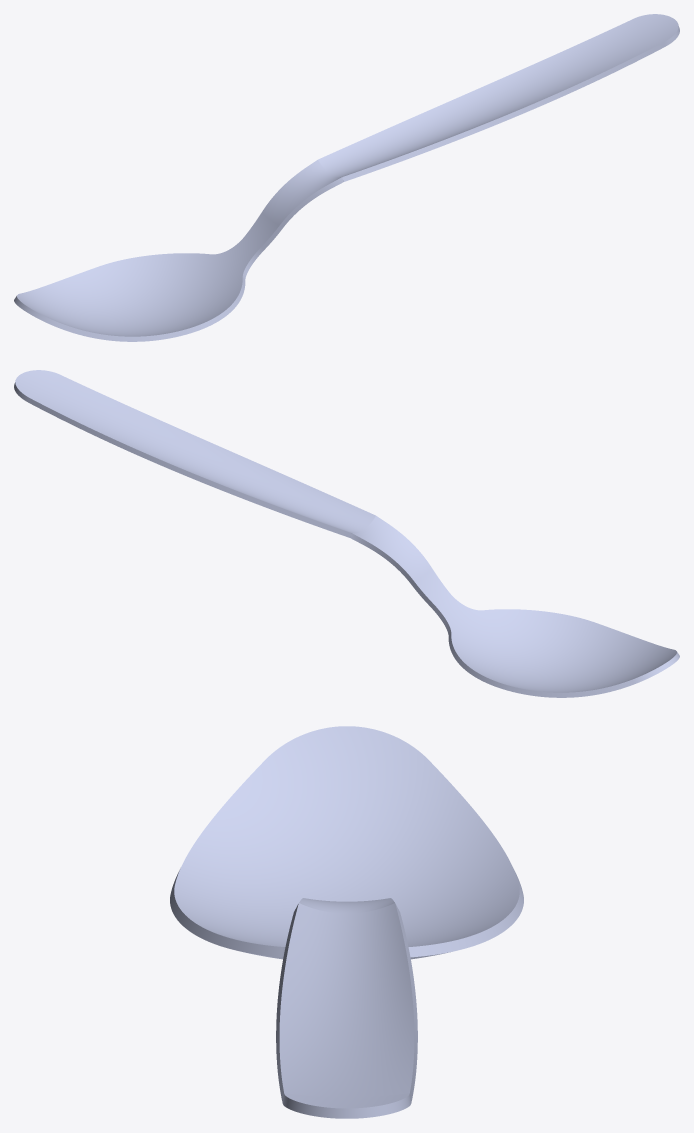
Rendered from Cuchara.fbx.
3 renders of one model, top to bottom at view 1: azimuth 30°, elevation 25°; view 2: azimuth 150°, elevation 25°; view 3: azimuth 270°, elevation 25°, orthographic. The views are drawn at different scales.
Visible parts, largest first — view 1: Cuchara; view 2: Cuchara; view 3: Cuchara.
Boxes of the visible parts, x1,y1,x2,y2 form: Cuchara: (14,14,679,341); Cuchara: (14,370,679,697); Cuchara: (170,726,523,1118).
Size of the model in its own units: 144 by 36 by 33.82.
